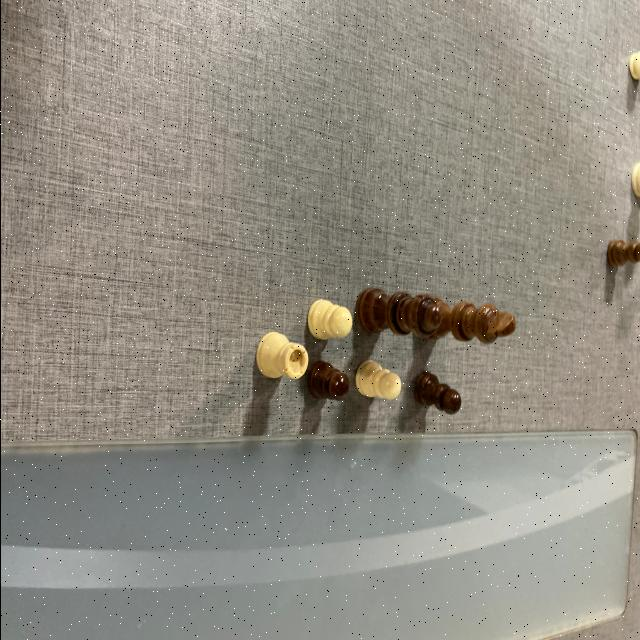Black-King: (424, 292, 514, 342)
Black-Pawn: (414, 372, 462, 414), (306, 362, 348, 402), (606, 240, 640, 266)
Black-Queen: (358, 294, 441, 332)
White-Pawn: (306, 300, 352, 338), (356, 364, 402, 402)
White-Rook: (258, 331, 310, 384)
